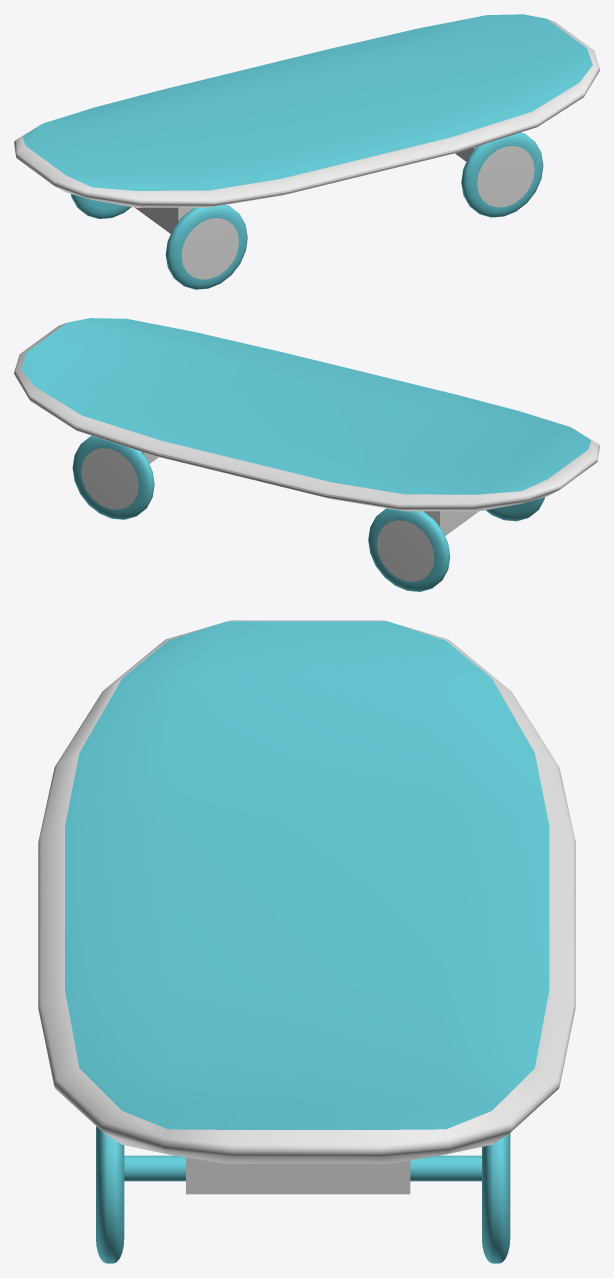
File: Tile7.fbx
3 renders of one model, top to bottom at view 1: azimuth 30°, elevation 25°; view 2: azimuth 150°, elevation 25°; view 3: azimuth 270°, elevation 25°, orthographic. The views are drawn at different scales.
Parts seen in each view (by area): view 1: m7; view 2: m7; view 3: m7.
Boxes of the visible parts, box(x1,y1,x2,y2) form: m7: box(14, 14, 599, 289); m7: box(14, 318, 599, 591); m7: box(38, 620, 575, 1263).
Bounding box in the file's own units: 14.87 × 3.11 × 6.4.
